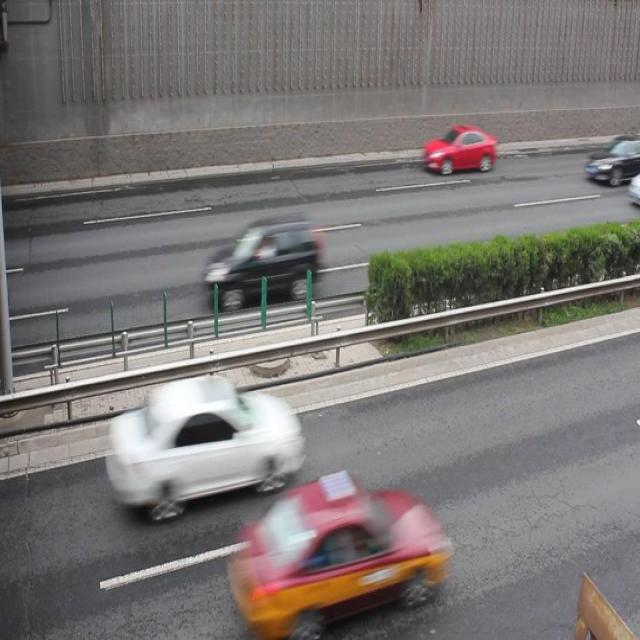car: (225, 469, 445, 640), (103, 370, 302, 518), (202, 213, 321, 314), (422, 121, 496, 175), (585, 134, 640, 186)
